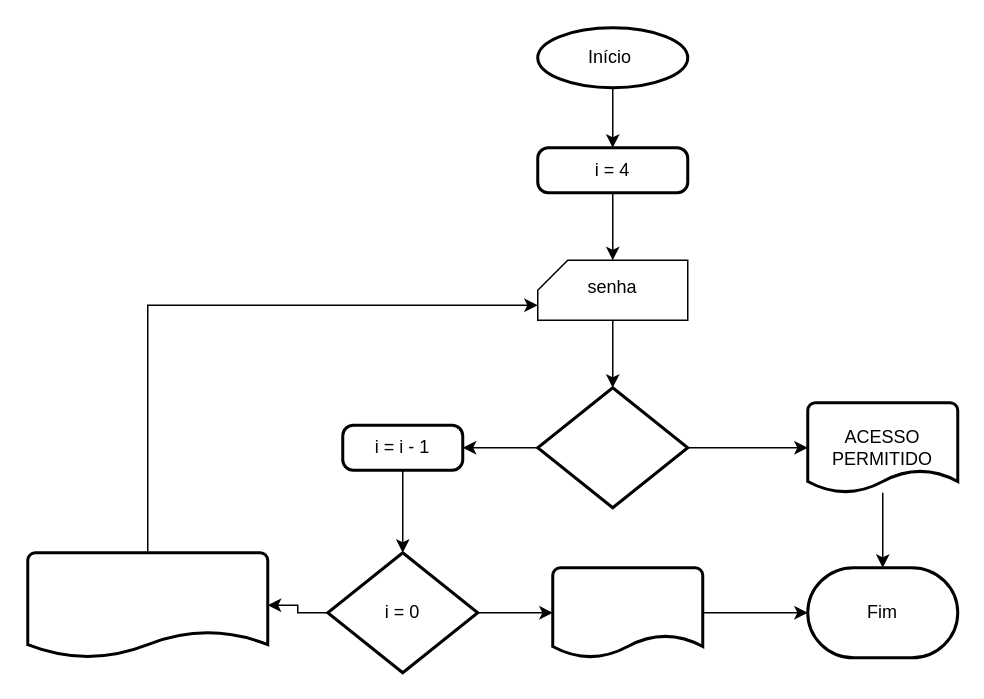
This 984x699 diagram has some shape labels left out. Each missing label, with the centre of its shape:
"ACESSO BLOQUEADO" goes at point 627,612.
"ACESSO NEGADO, i TENTATIVAS RESTANTES" goes at point 147,604.
"senha = 1234" goes at point 612,447.
